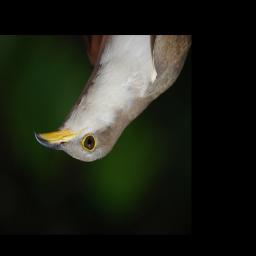Cuckoo: (34, 36, 192, 163)
